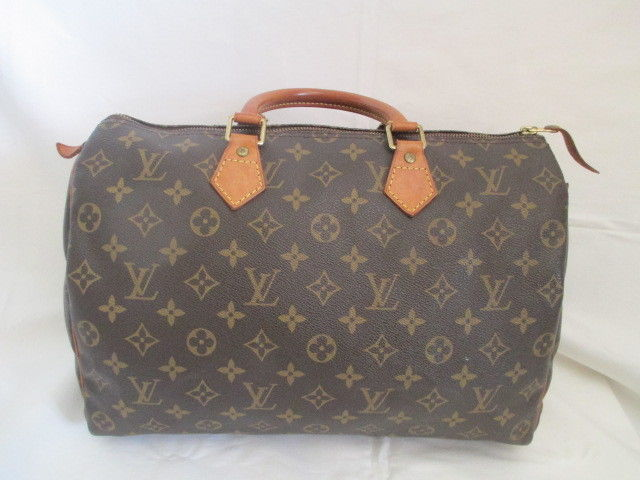LOUIS-VUITTON: (241, 264, 282, 310)
